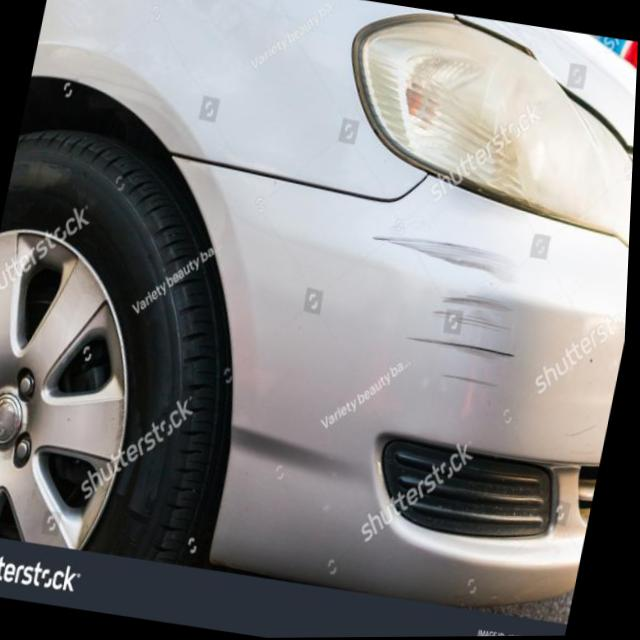Scratch: (347, 214, 562, 418)
